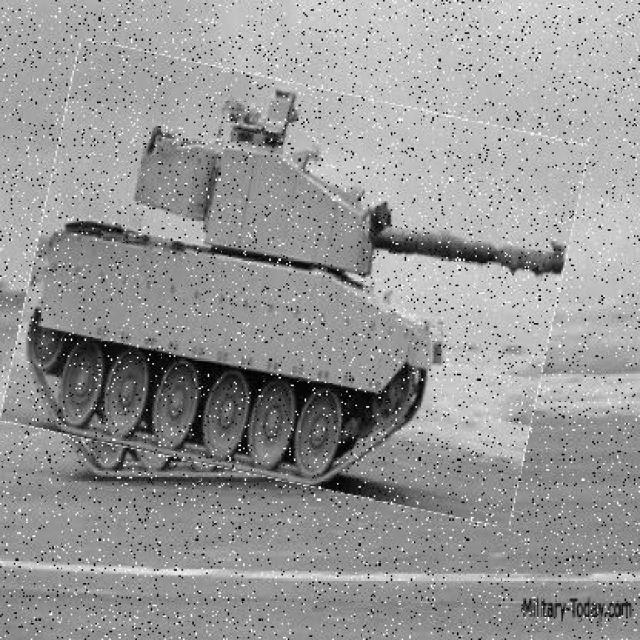Tank: (20, 64, 574, 504)
